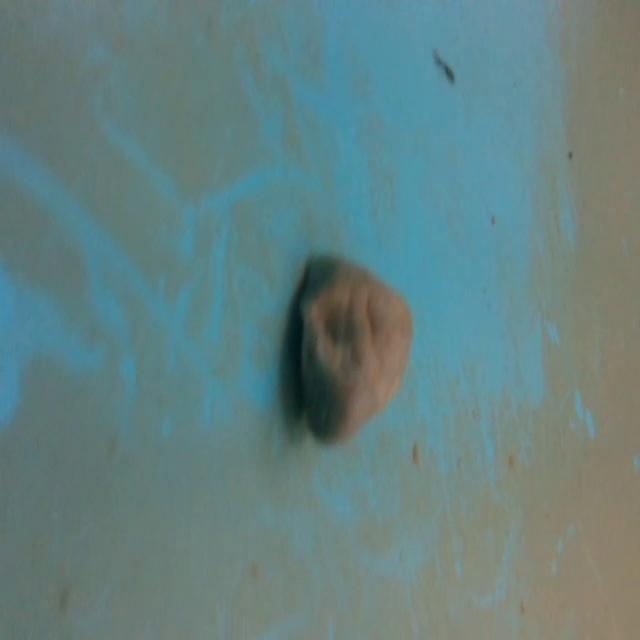rock: (289, 244, 419, 453)
